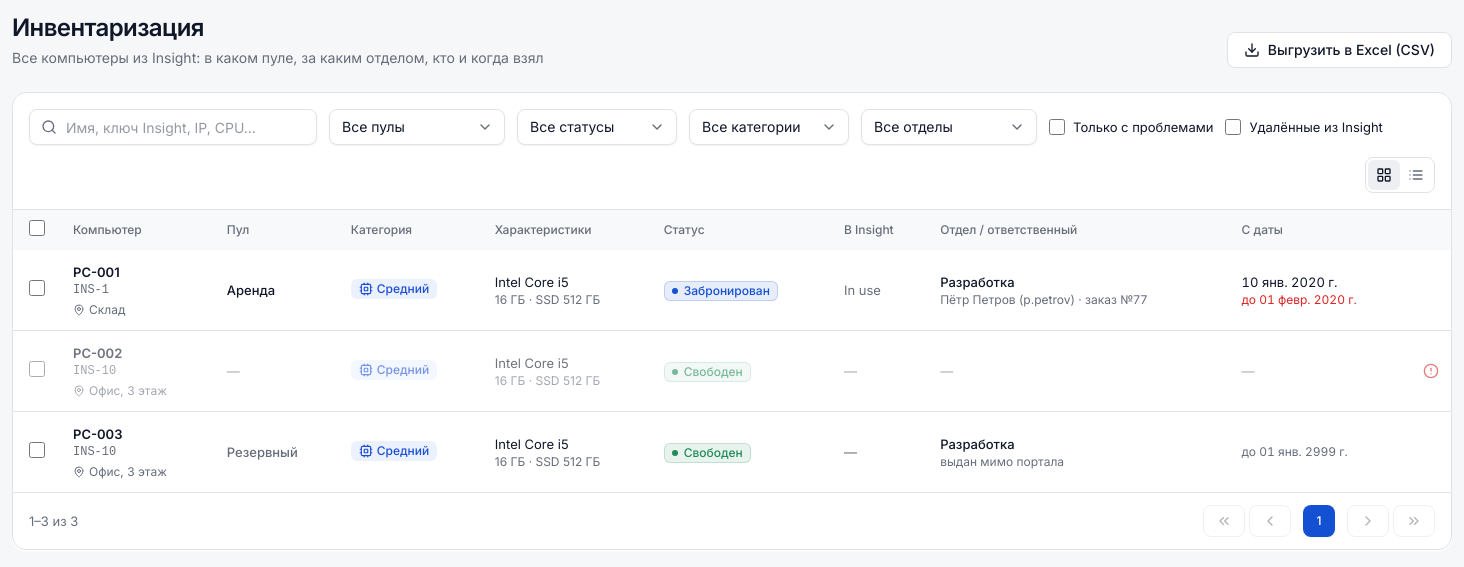
Test case: InventoryPage › режим «список» — компактная таблица, выбор запоминается в localStorage
expect the button "PC-001" is shown: met, box [73,262,120,282]
expect the column heading "Характеристики" is shown: met, box [483,210,652,250]
Click the button titled "Списком — только номера".
click(1416, 175)  # box [1400,160,1432,190]
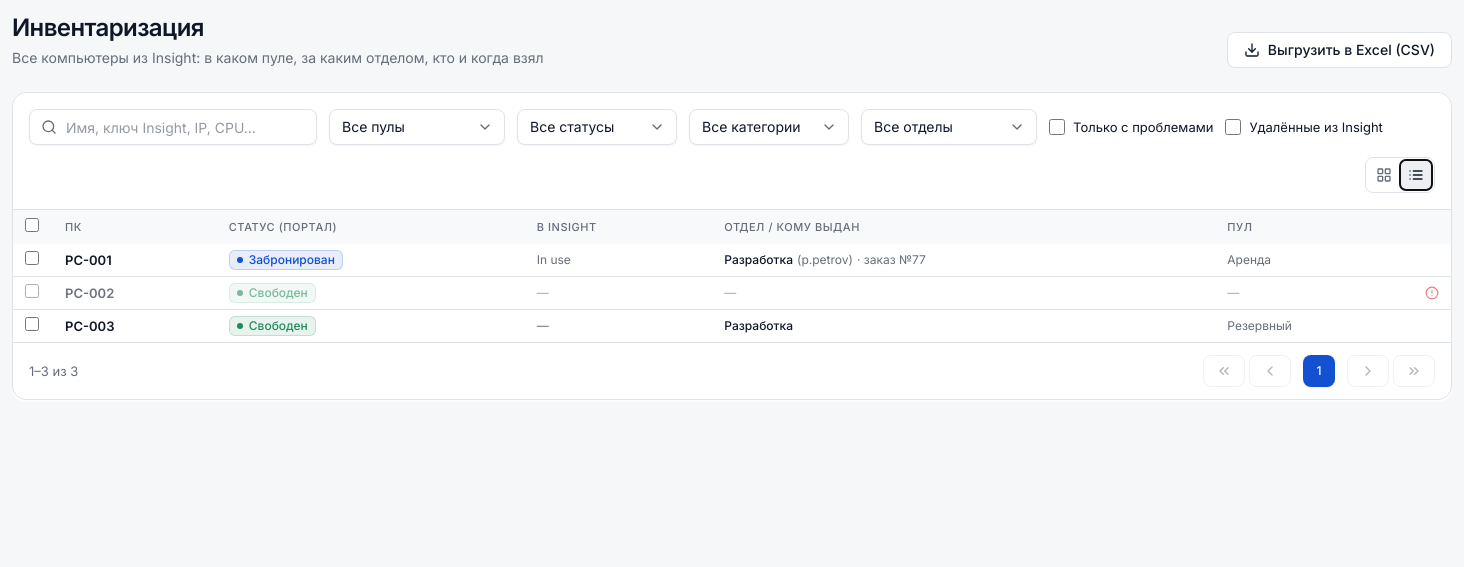
expect the button "PC-002" is shown: met, box [65,285,114,301]
expect the column heading "Характеристики" is gone: met
expect the column heading "Статус (Портал)" is shown: met, box [217,210,525,244]
